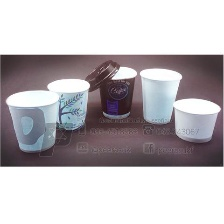paper_cup: (1, 85, 62, 155), (136, 64, 185, 127), (43, 75, 92, 135), (169, 93, 223, 147), (96, 61, 138, 122)
